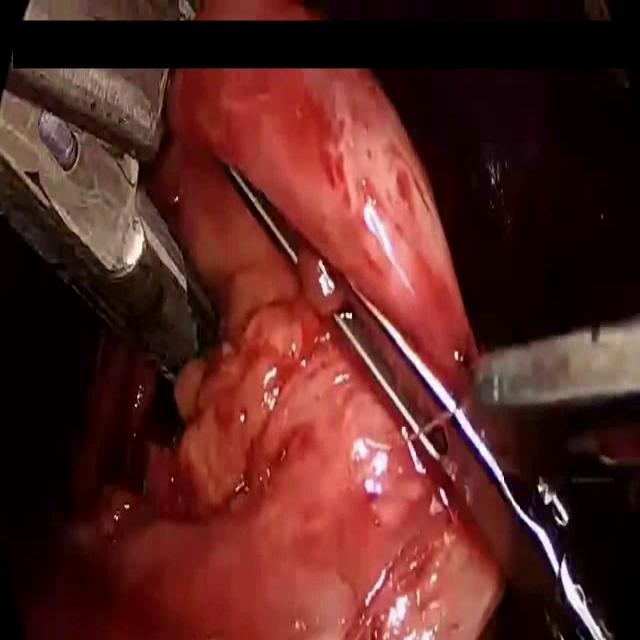surgical-area: (16, 68, 640, 639)
surgical-tool: (330, 277, 618, 639), (0, 68, 218, 384), (474, 312, 640, 407), (223, 164, 300, 276)
